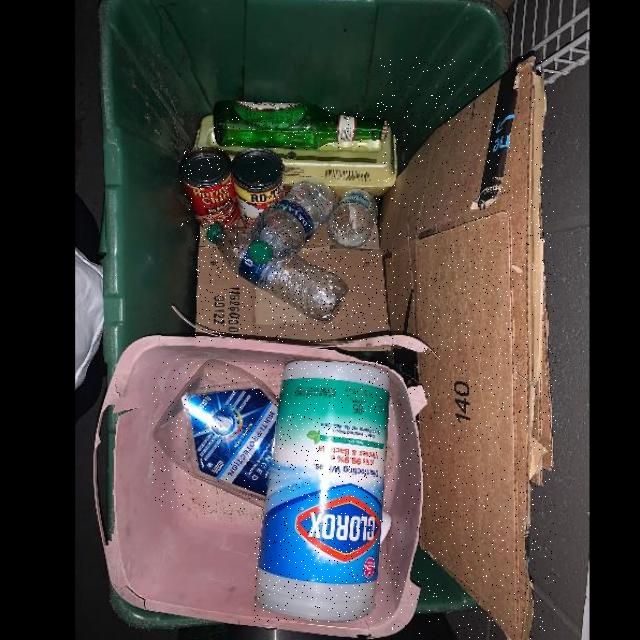glass: (213, 101, 388, 150)
metal: (179, 148, 240, 229), (231, 149, 284, 228)
paper: (378, 57, 556, 640), (196, 223, 389, 342)
plastic: (254, 361, 389, 622), (152, 360, 278, 509), (206, 225, 349, 324), (248, 181, 334, 266), (327, 189, 377, 250)
